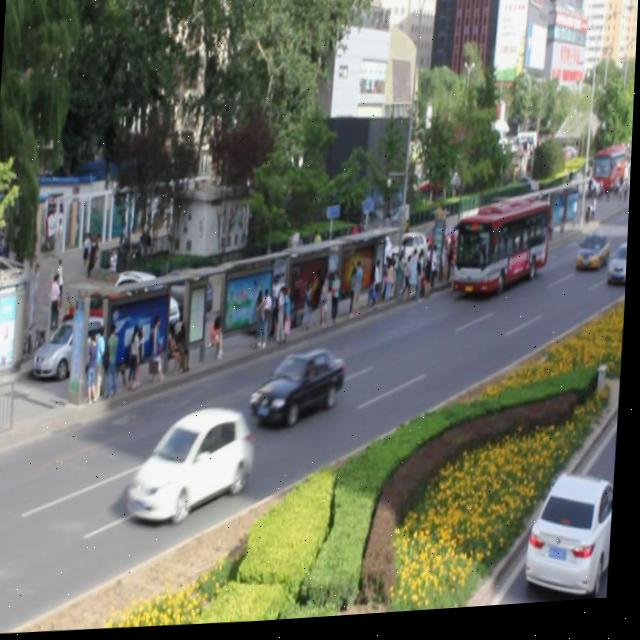car: (128, 405, 258, 527), (252, 347, 350, 432), (576, 237, 612, 277), (608, 248, 630, 291)
van: (456, 202, 551, 304)
